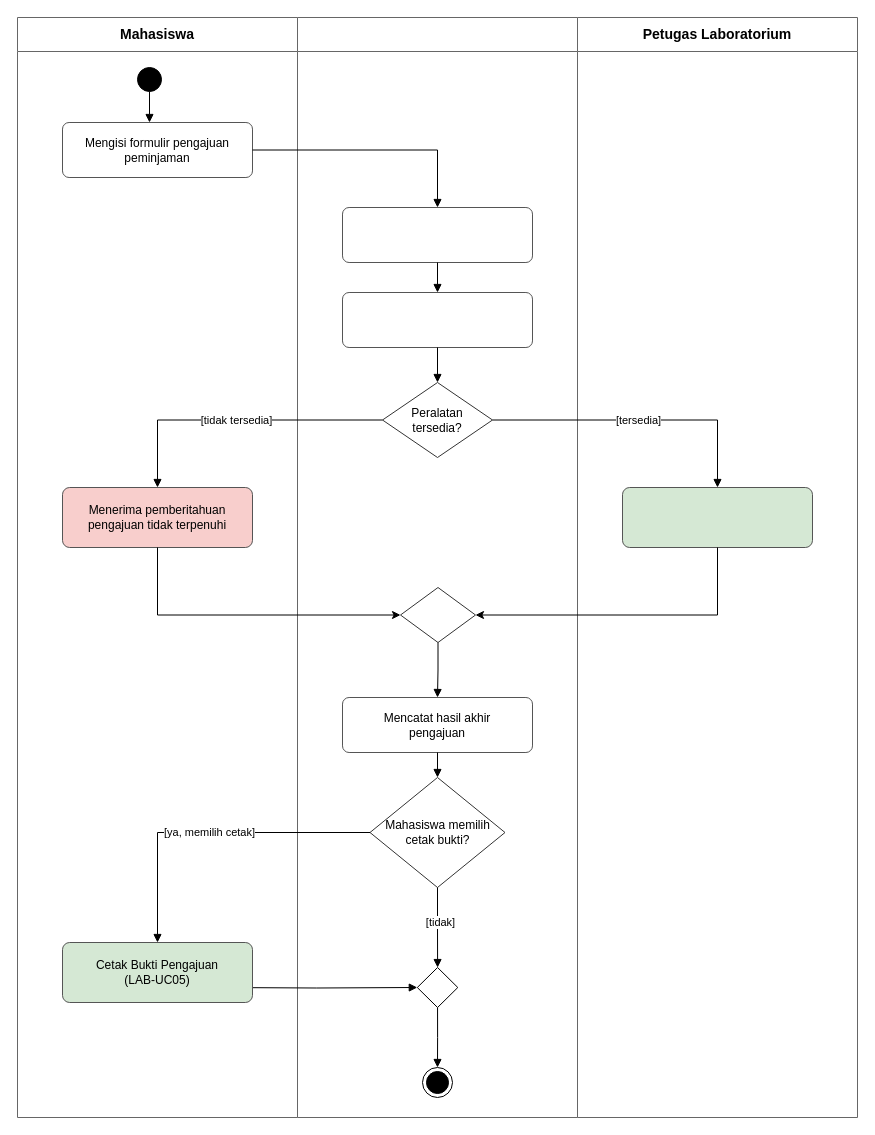
This 875x1135 diagram has some shape labels left out. The shapes that lost their labels are listed below. From the top down, each one's box as (x1, y1, x2, y2) in pixels, then its label:
(342, 206, 532, 262): Menyimpan data pengajuan peminjaman
(342, 292, 532, 348): Periksa Ketersediaan (LAB-UC04)
(622, 486, 812, 548): Memproses keputusan peminjaman
(296, 16, 578, 1118): Sistem
